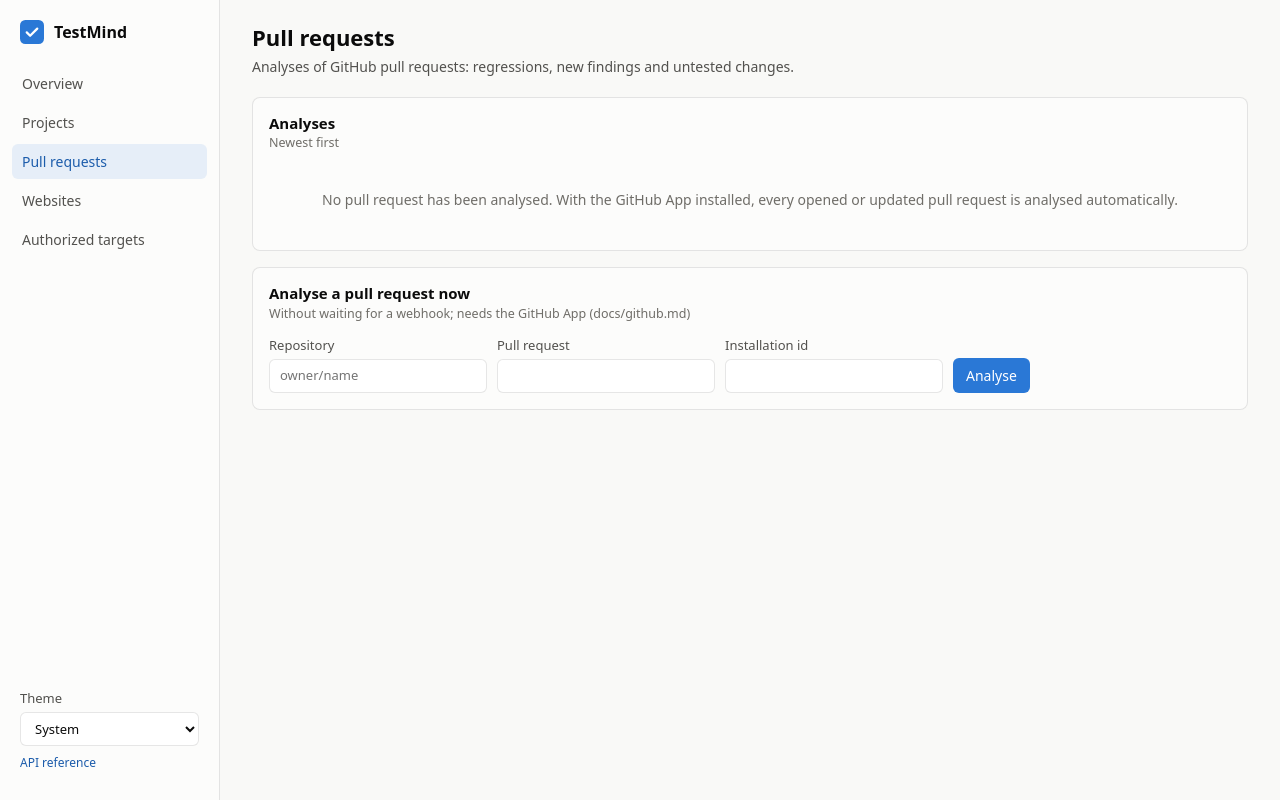
Scenario: Pull request analyses › explains an empty list and a refused manual analysis
Expected: the text "No pull request has been analysed" is shown, [322,190,1178,209]
Type "acme/shop" into the field labelled "Repository" at (378, 376), box [269,359,487,392]
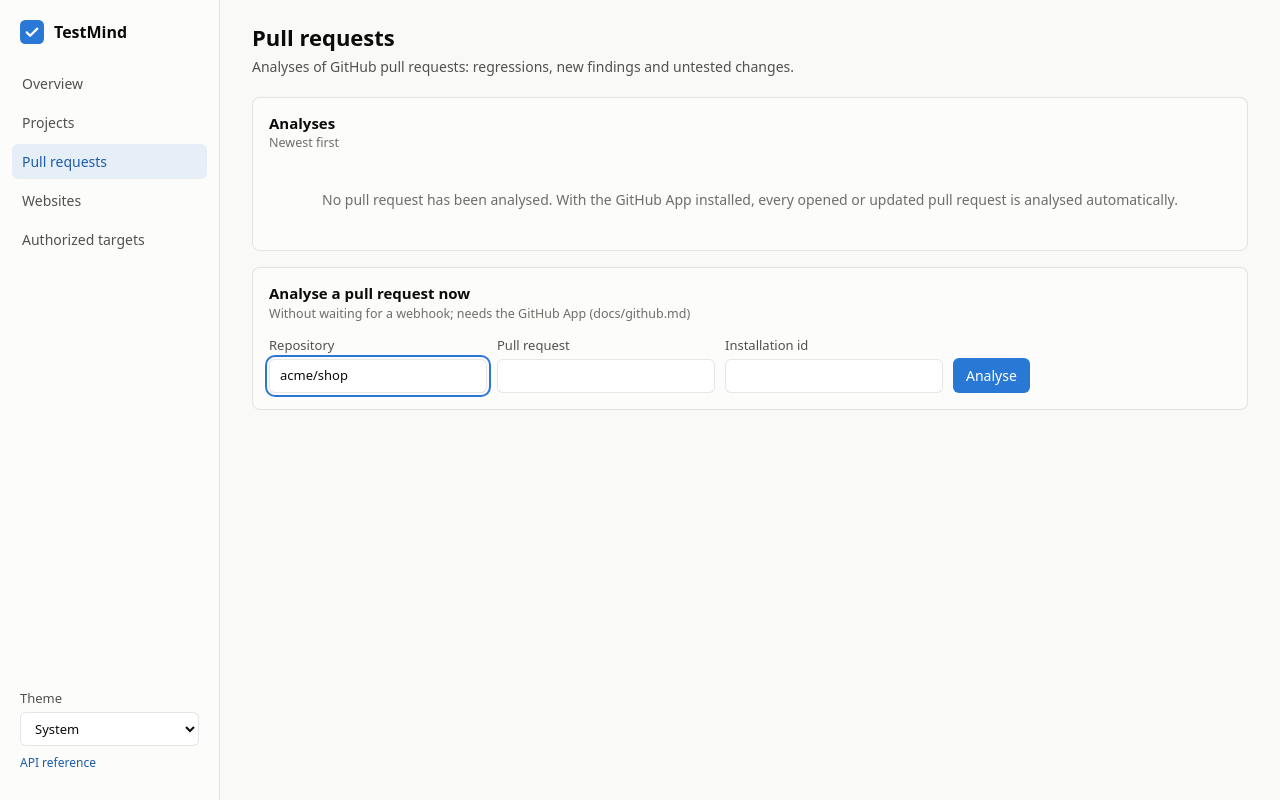
Type "7" into the number field labelled "Pull request" at (606, 376), box [497,359,715,392]
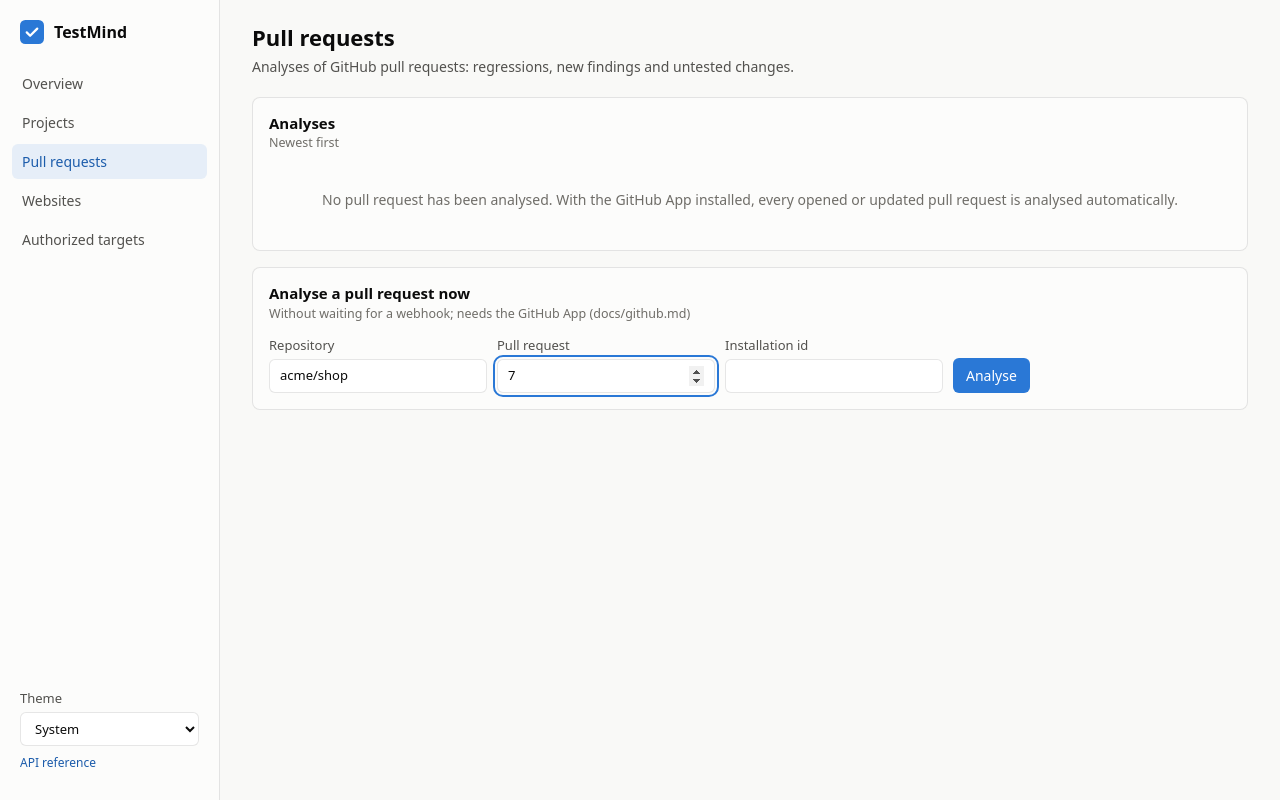
Type "3" into the number field labelled "Installation id" at (834, 376), box [725,359,943,392]
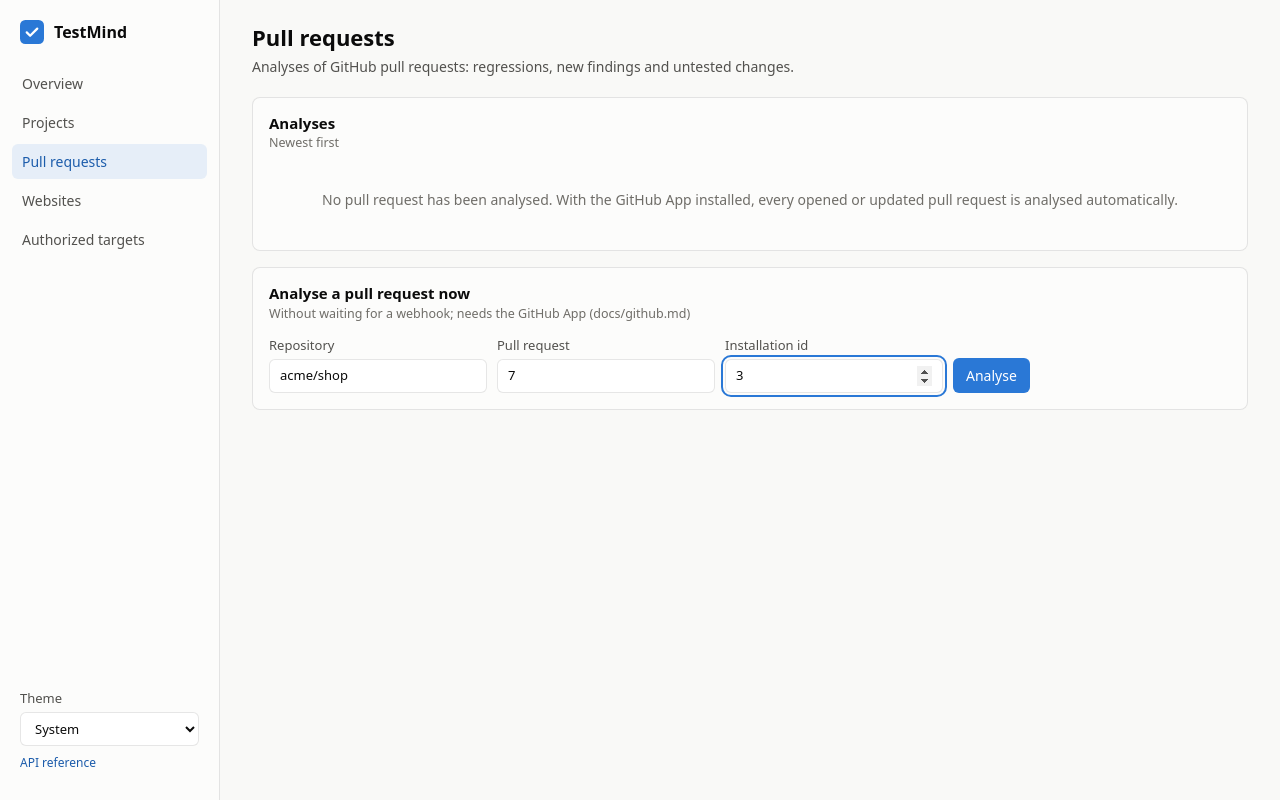
Click the button "Analyse" at (991, 375), box [953,358,1030,392]
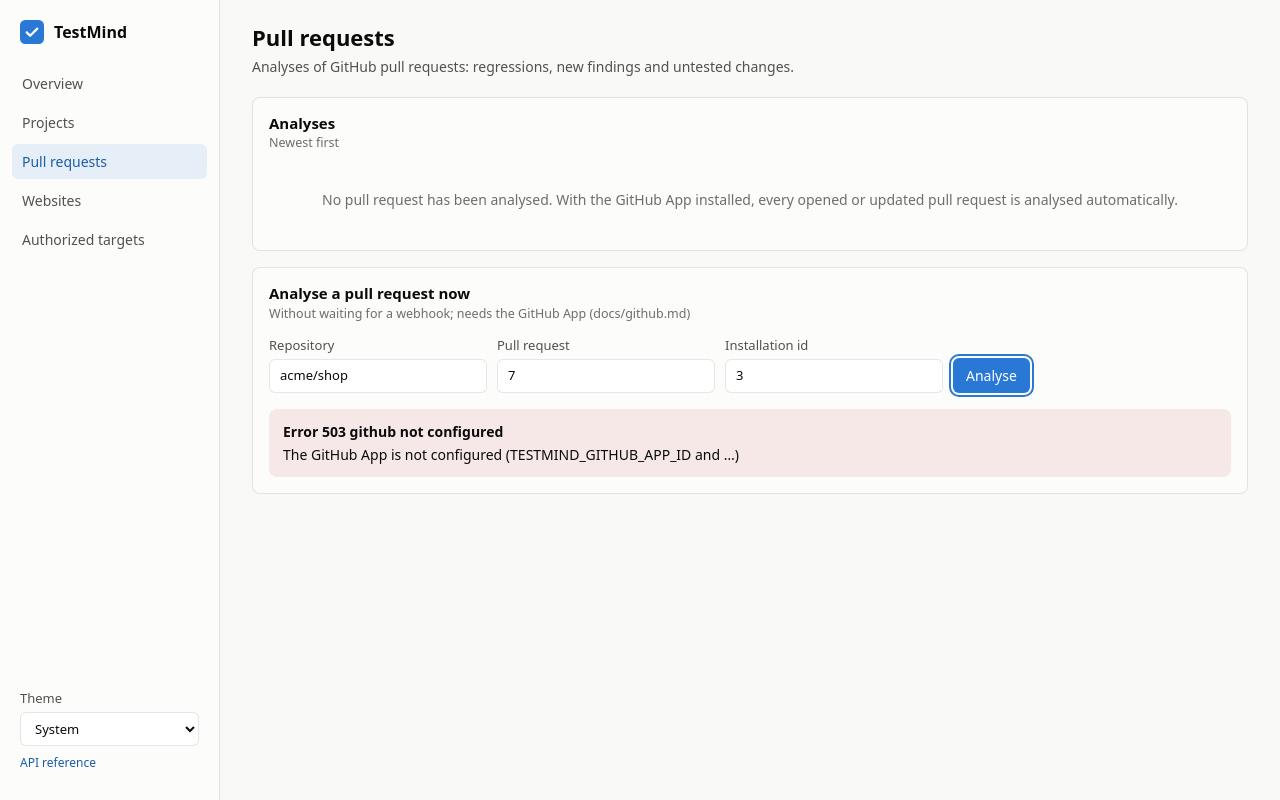
Result: the message shows "github not configured" at [283,422,503,440]
